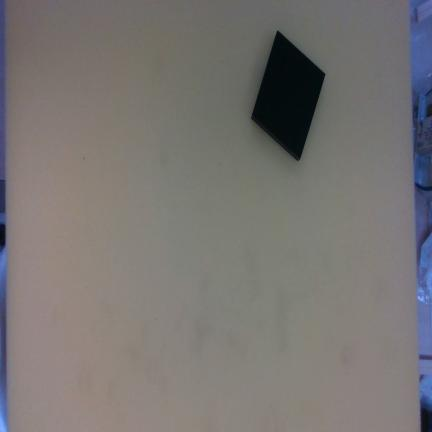tile: (244, 30, 334, 160)
